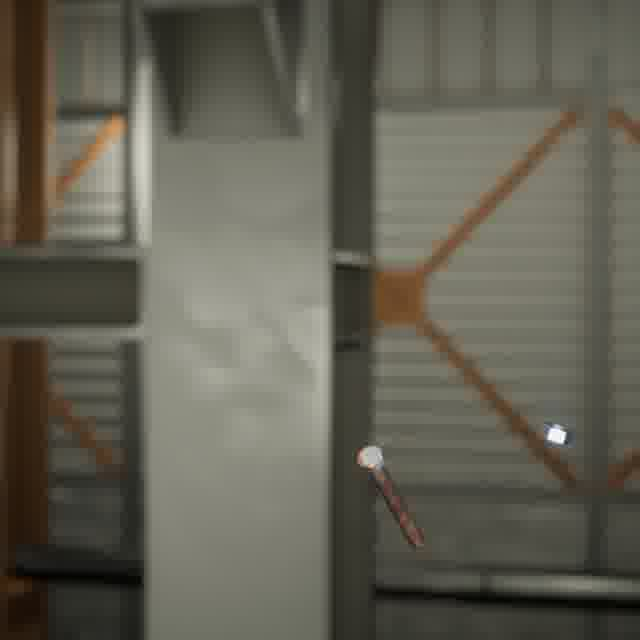bolt: (352, 441, 429, 554)
nut: (534, 417, 577, 449)
